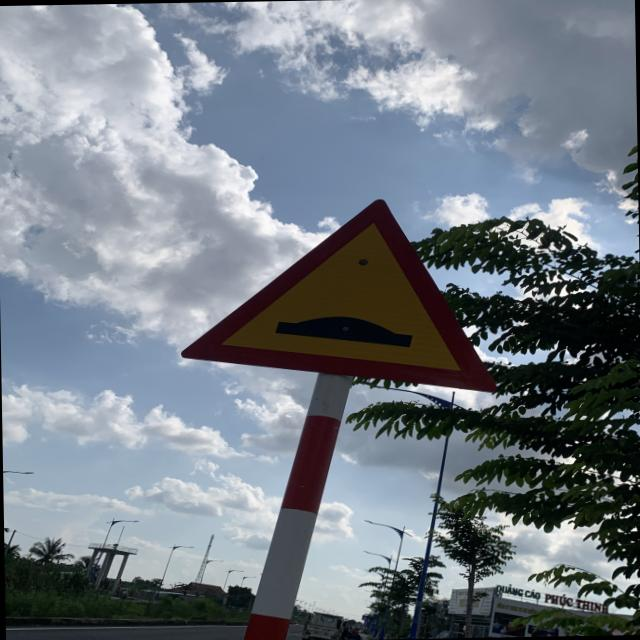Duong_Cong_Ben_Phai: (175, 190, 493, 400)
